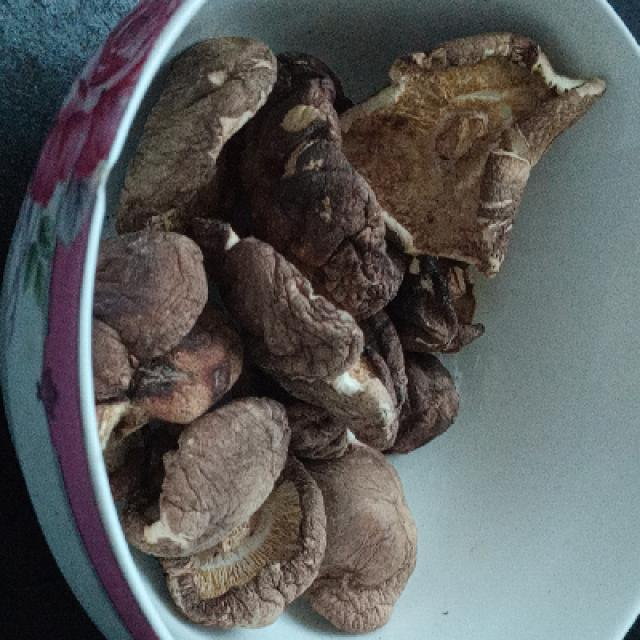Lentinus edodes: (106, 29, 611, 625)
